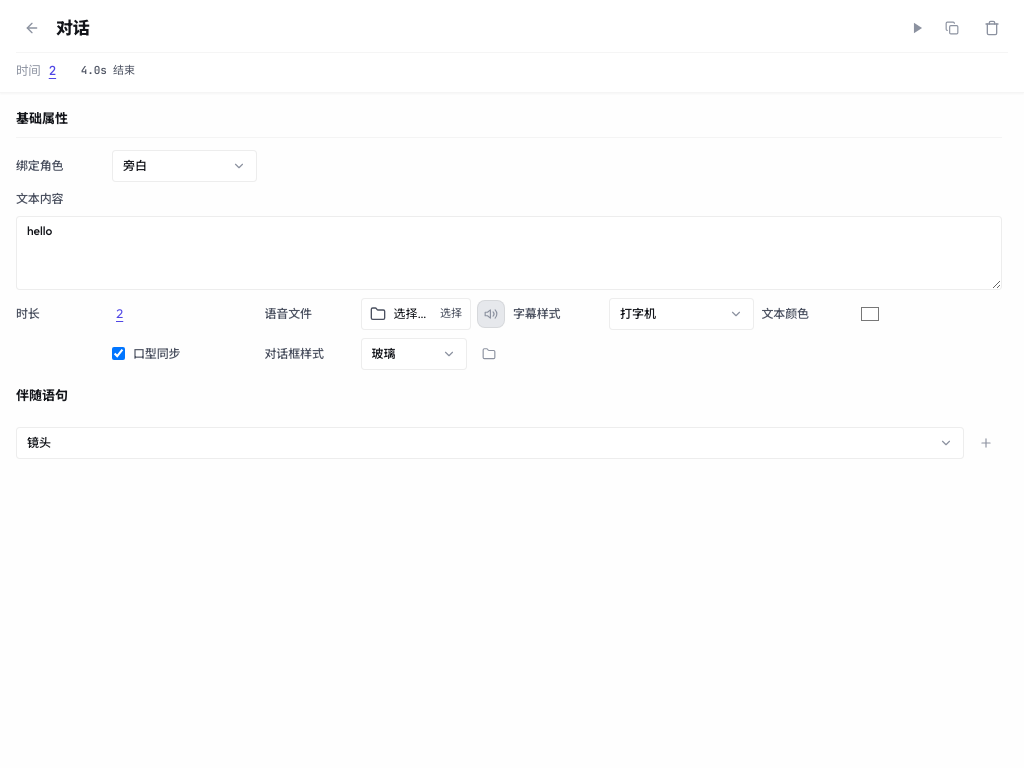
Test case: ActionInspector › does not duplicate built-in dialogue styles from enabled template manifests
What coordinates should you click on to do the following:
click the dropdown named "对话框样式"
I would click on:
 (414, 354)
Its box is [360, 338, 467, 370].
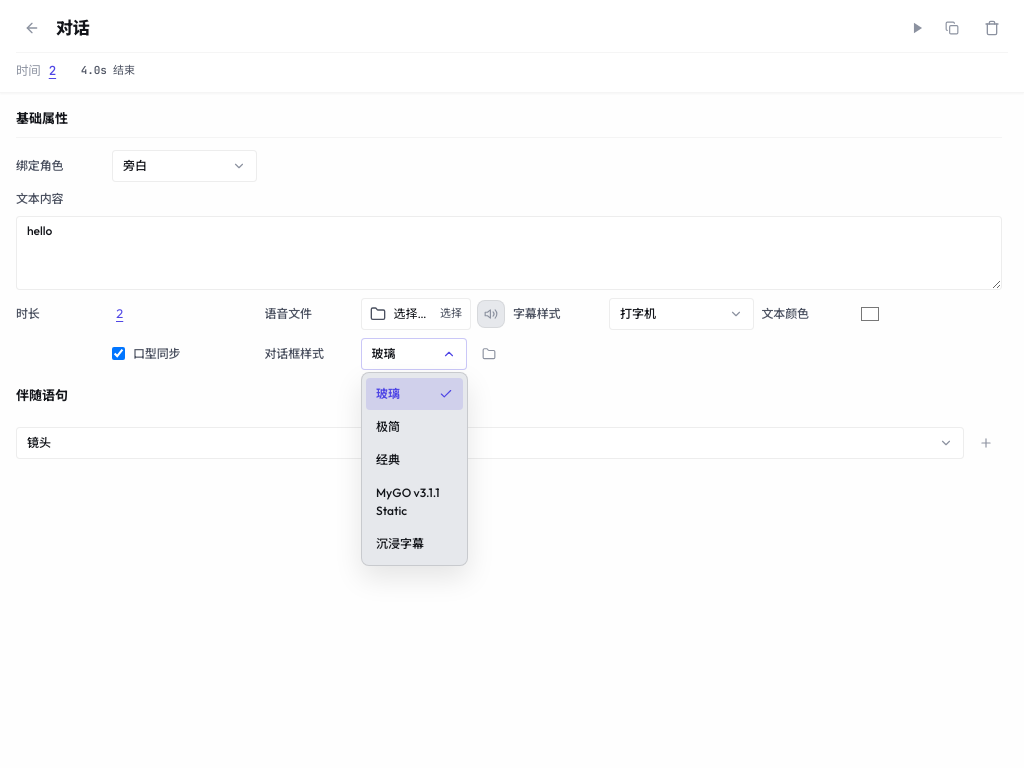
Expected: the number of options "玻璃" is 1, [366, 378, 462, 410]
Expected: the number of options "极简" is 1, [376, 418, 400, 434]
Expected: the number of options "经典" is 1, [376, 452, 400, 466]
